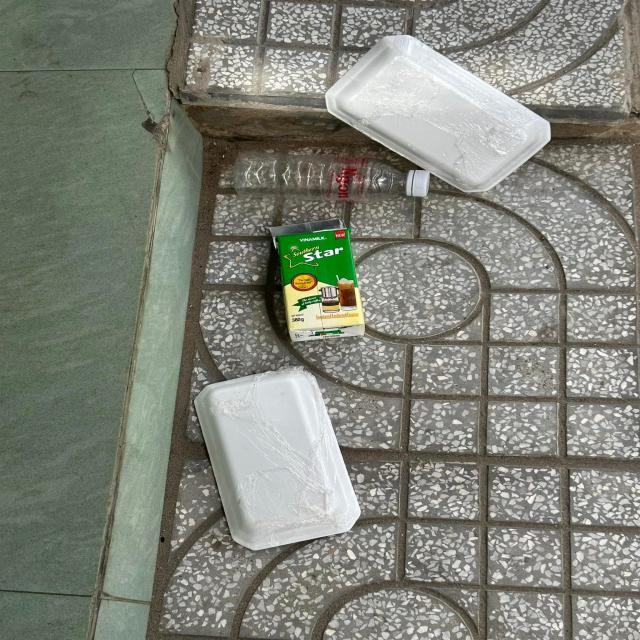bottle: (234, 152, 431, 204)
cardboard box: (267, 217, 365, 344)
foam box: (323, 35, 552, 196), (194, 369, 363, 550)
